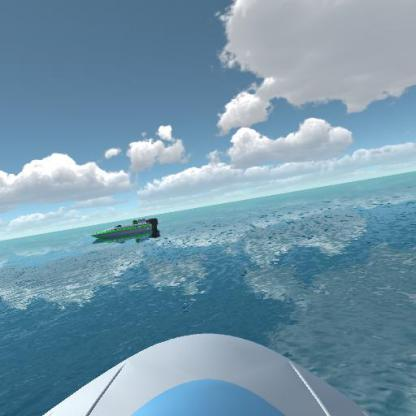usv0: (87, 213, 165, 247)
